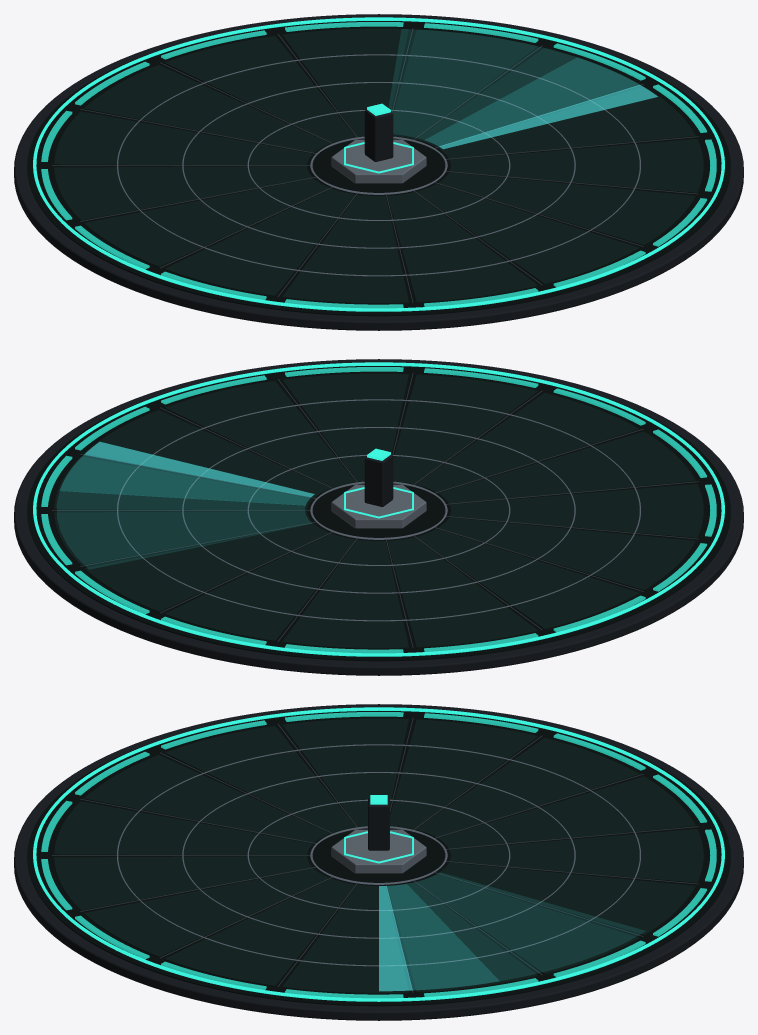
File: radar.glb
3 renders of one model, top to bottom at view 1: azimuth 30°, elevation 25°; view 2: azimuth 150°, elevation 25°; view 3: azimuth 270°, elevation 25°, orthographic.
Parts seen in each view (by area): view 1: Radar_Ground, Radar_Plate, Sector_04, Sector_12, Sector_13, Sector_03, Sector_06, Sector_14, Sector_11, Sector_02, Sector_05, Sector_00 (+24 smaller); view 2: Radar_Ground, Radar_Plate, Sector_02, Sector_03, Sector_09, Sector_01, Sector_08, Sector_04, Sector_07, Sector_00, Sector_10, Sector_11 (+24 smaller); view 3: Radar_Ground, Radar_Plate, Sector_08, Sector_07, Sector_14, Sector_13, Sector_06, Sector_01, Sector_09, Sector_05, Sector_12, Sector_00 (+24 smaller).
Boxes of the visible parts, left/top/right/bottom form: Radar_Ground: left=27, top=21, right=730, bottom=316; Radar_Plate: left=14, top=14, right=743, bottom=330; Sector_04: left=54, top=166, right=312, bottom=220; Sector_12: left=449, top=139, right=703, bottom=193; Sector_13: left=438, top=172, right=695, bottom=245; Sector_03: left=84, top=178, right=329, bottom=267; Sector_06: left=84, top=65, right=330, bottom=153; Sector_14: left=416, top=184, right=639, bottom=284; Sector_11: left=437, top=86, right=695, bottom=159; Sector_02: left=164, top=188, right=355, bottom=296; Sector_05: left=54, top=111, right=312, bottom=166; Sector_00: left=387, top=192, right=537, bottom=302; Radar_Ground: left=27, top=366, right=730, bottom=661; Radar_Plate: left=14, top=359, right=743, bottom=675; Sector_02: left=449, top=484, right=703, bottom=538; Sector_03: left=438, top=517, right=695, bottom=590; Sector_09: left=54, top=511, right=312, bottom=565; Sector_01: left=437, top=431, right=695, bottom=504; Sector_08: left=84, top=523, right=329, bottom=612; Sector_04: left=416, top=529, right=639, bottom=629; Sector_07: left=164, top=533, right=355, bottom=641; Sector_00: left=416, top=393, right=639, bottom=493; Sector_10: left=54, top=456, right=312, bottom=511; Sector_11: left=84, top=410, right=330, bottom=498; Radar_Ground: left=27, top=711, right=730, bottom=1006; Radar_Plate: left=14, top=704, right=743, bottom=1020; Sector_08: left=438, top=862, right=695, bottom=935; Sector_07: left=449, top=829, right=703, bottom=883; Sector_14: left=54, top=856, right=312, bottom=910; Sector_13: left=84, top=868, right=329, bottom=957; Sector_06: left=437, top=776, right=695, bottom=849; Sector_01: left=84, top=755, right=330, bottom=843; Sector_09: left=416, top=874, right=639, bottom=974; Sector_05: left=416, top=738, right=639, bottom=838; Sector_12: left=164, top=878, right=355, bottom=986; Sector_00: left=54, top=801, right=312, bottom=856.
Bounding box in the file's own units: 6.7 × 0.6975 × 6.7.
